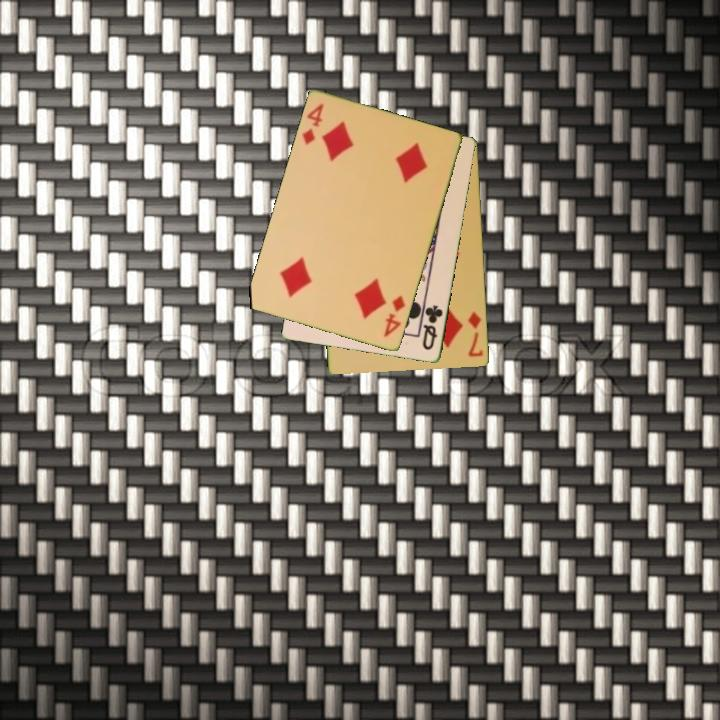4d: (298, 100, 327, 148), (380, 292, 408, 341)
7d: (465, 308, 486, 360)
Qc: (419, 302, 446, 353)
